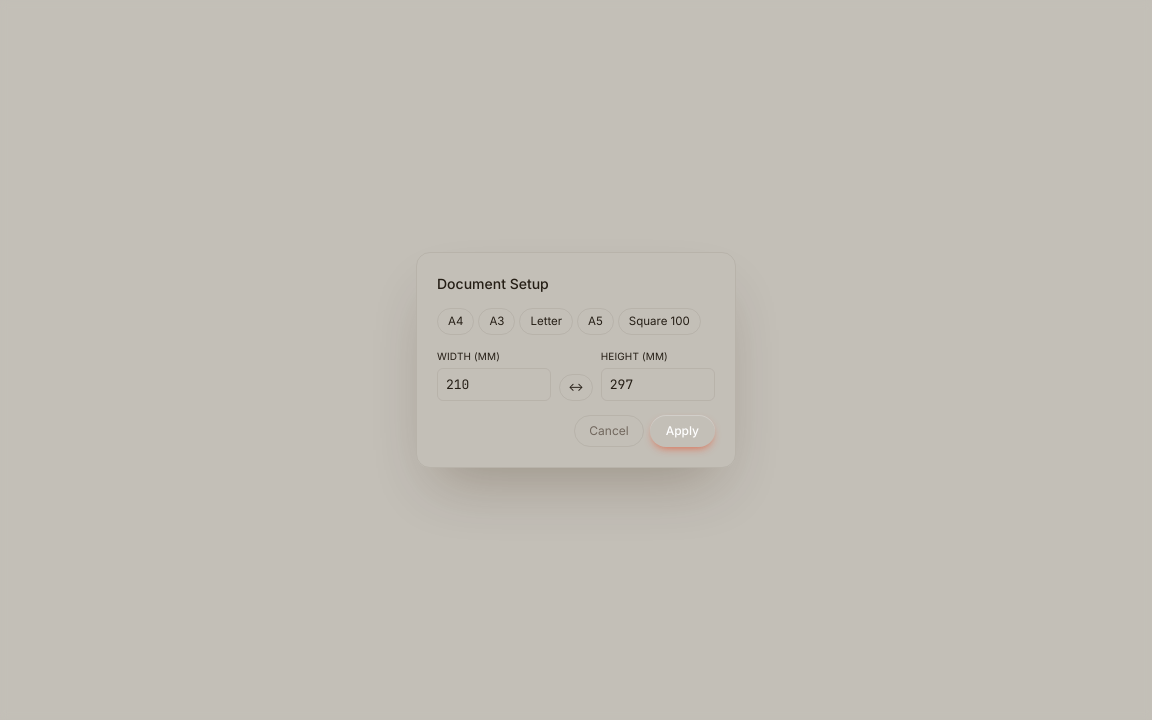
Test case: ArtboardDialog › applies preset values when preset button is clicked
Click the button "A3" at (497, 321), box [478,308,515,335]
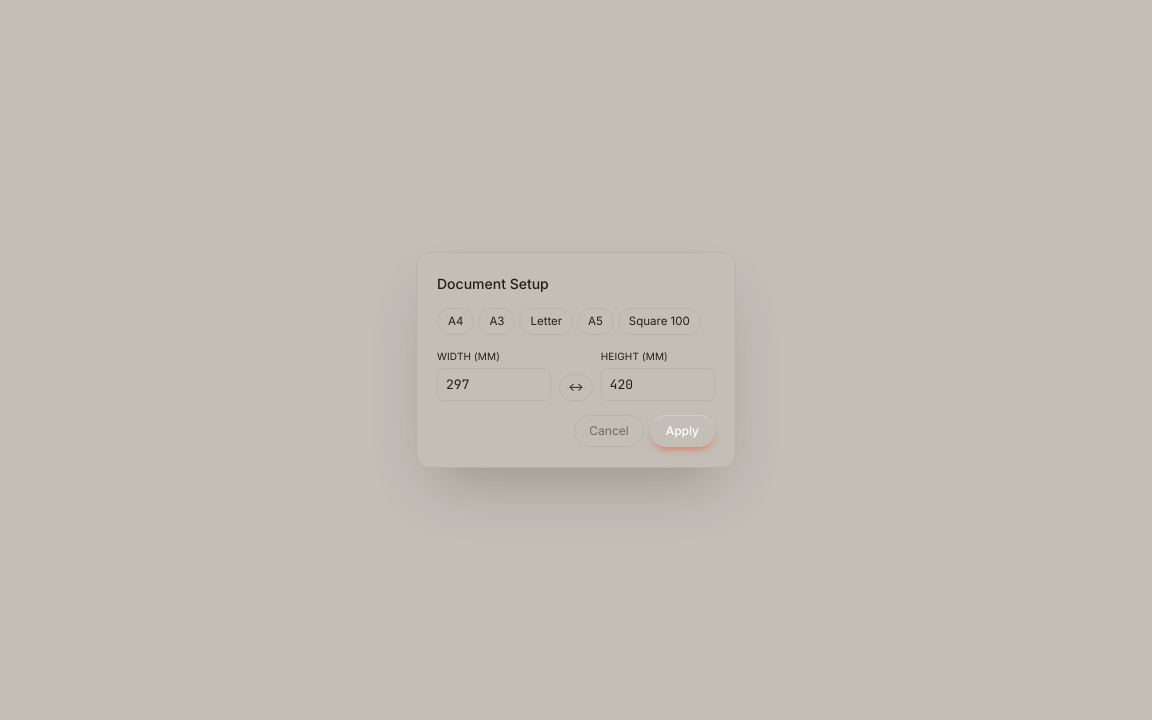
Check: the number field with test id "artboard-width" holds "297", box [437,368,551,401]
Check: the number field with test id "artboard-height" holds "420", box [601,368,715,401]
